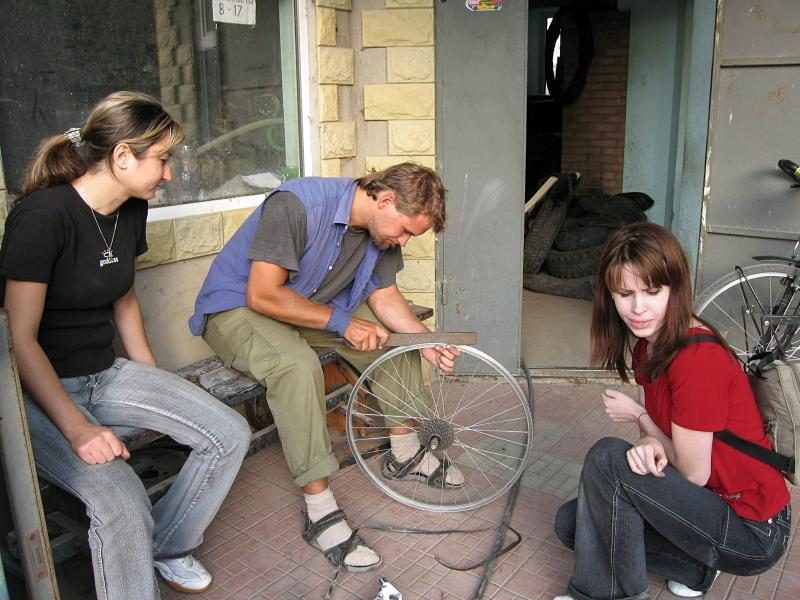person: (184, 159, 471, 579)
